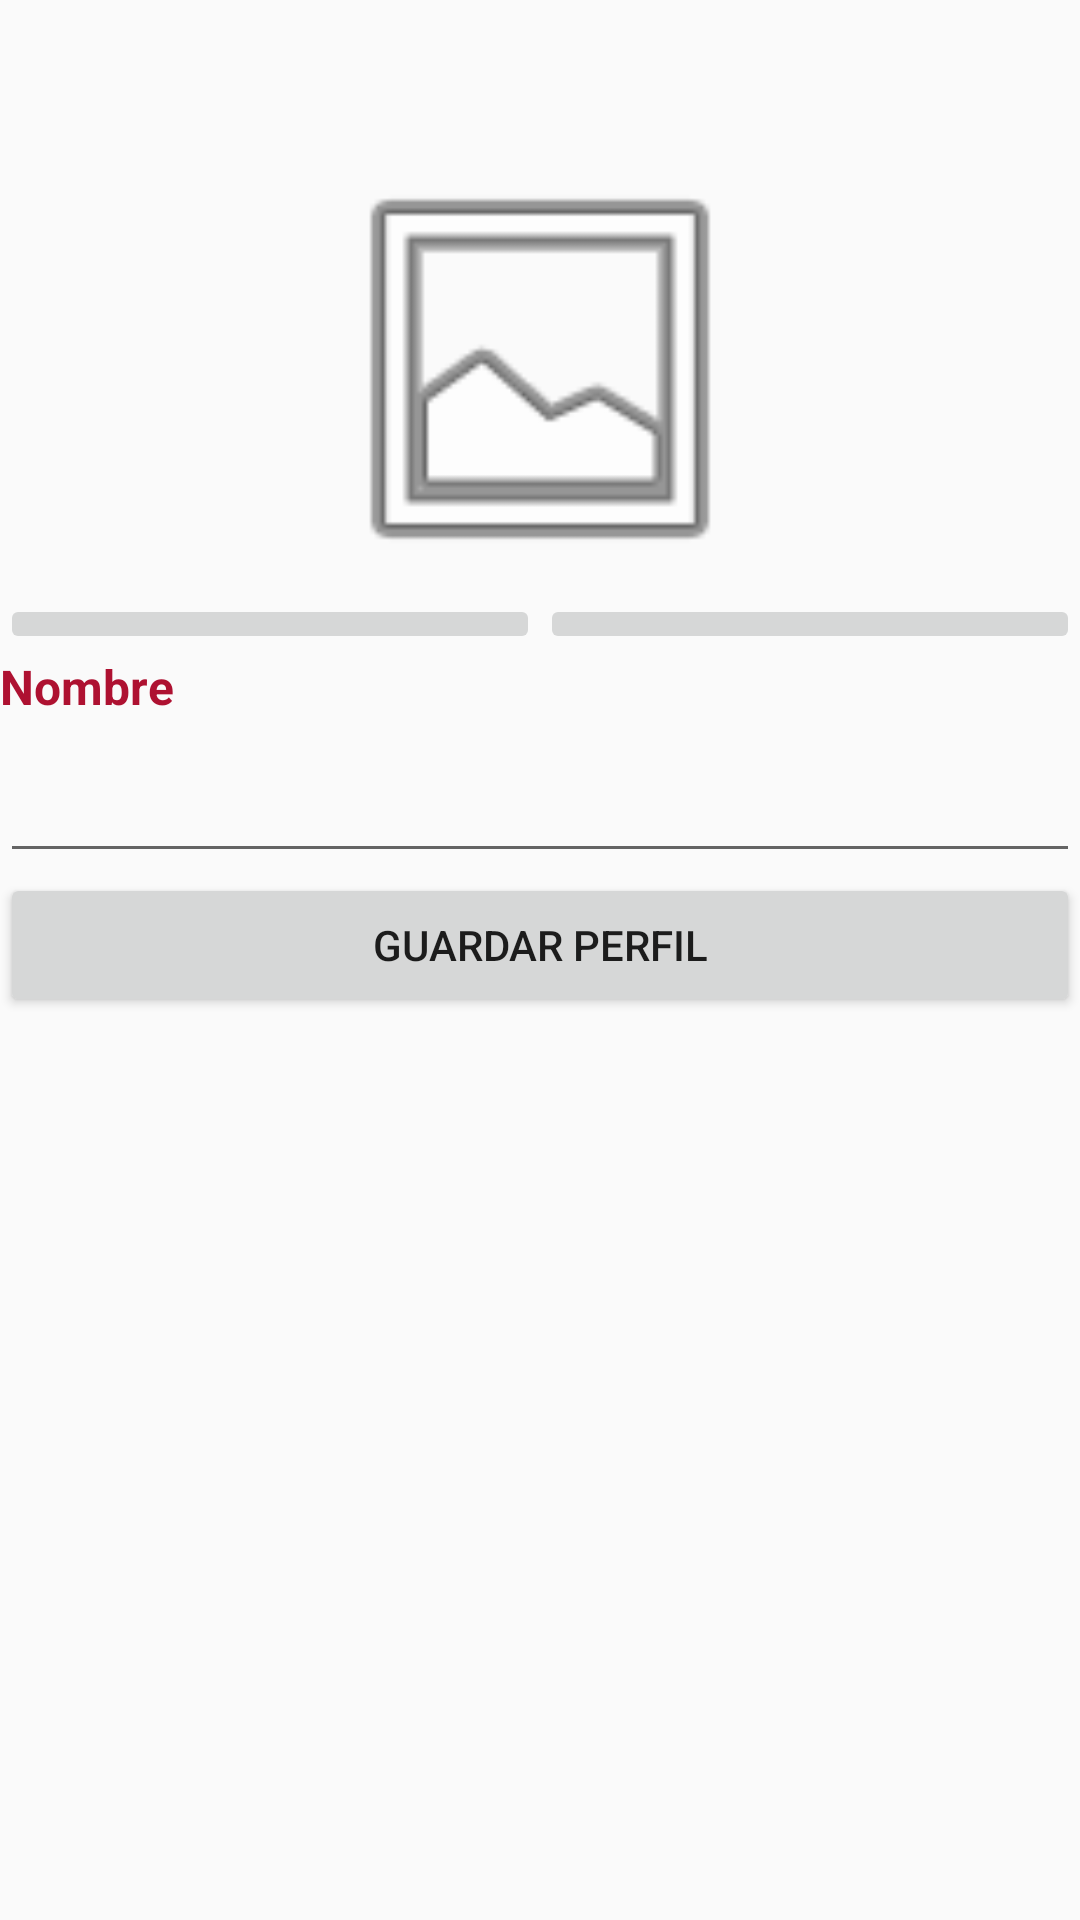

Named icons in this screenshot (1080×1920) and their bounding boxes, (x1,y1,x2,y2):
gallery: (370,199,710,539)
